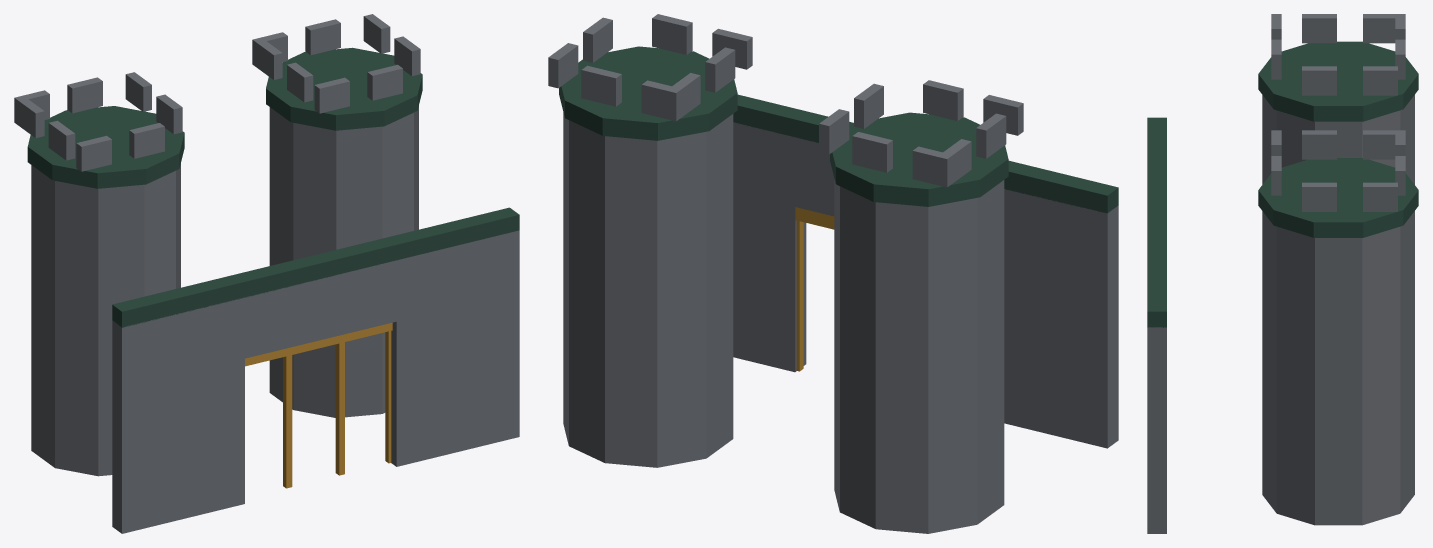
Rendered from GatehouseModule.fbx.
The picture shows the model from 3 angles, left to right: view 1: azimuth 30°, elevation 25°; view 2: azimuth 150°, elevation 25°; view 3: azimuth 270°, elevation 25°; orthographic projection. The views are drawn at different scales.
Parts seen in each view (by area): view 1: GatehouseModule; view 2: GatehouseModule; view 3: GatehouseModule.
Part boxes in pixels (x1,y1,x2,y2): GatehouseModule: [14, 14, 519, 533]; GatehouseModule: [548, 14, 1118, 533]; GatehouseModule: [1147, 14, 1418, 533].
Size of the model in its own units: 1202 by 972 by 711.
3 materials, 3 textured.
